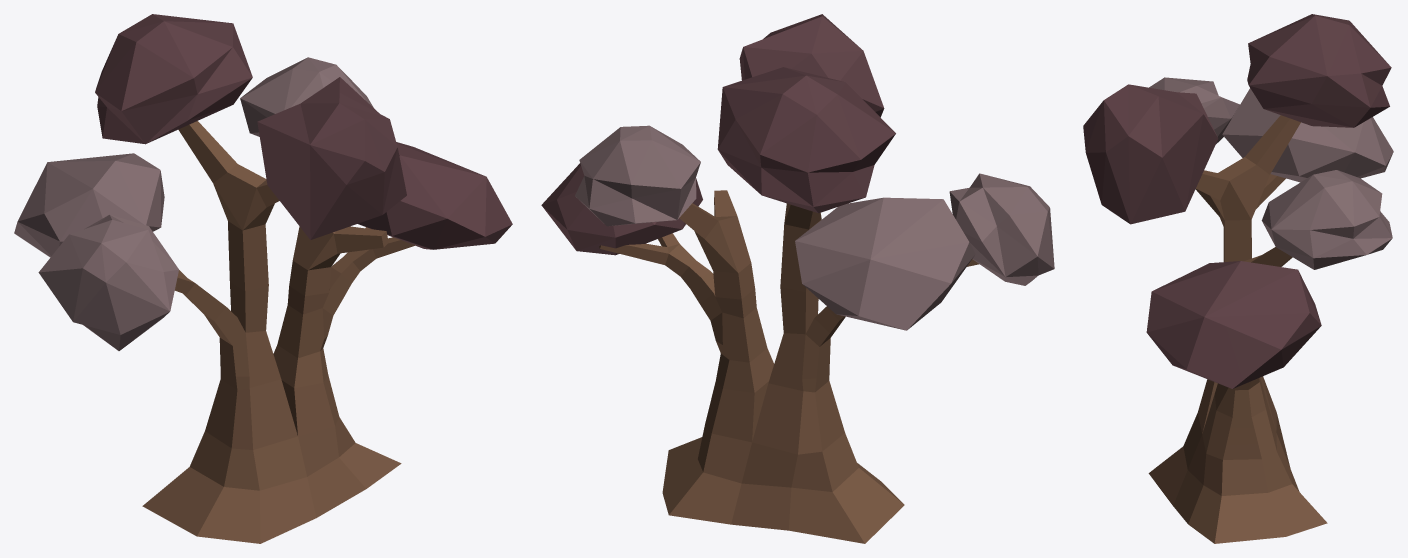
Rendered from sakura_tree.glb.
3 views of the same model, side by side, from view 1: azimuth 30°, elevation 25°; view 2: azimuth 150°, elevation 25°; view 3: azimuth 270°, elevation 25° (orthographic). The views are drawn at different scales.
Parts seen in each view (by area): view 1: M_Tree 1; view 2: M_Tree 1; view 3: M_Tree 1.
Boxes of the visible parts, x1,y1,x2,y2 form: M_Tree 1: [14, 14, 512, 543]; M_Tree 1: [541, 14, 1054, 543]; M_Tree 1: [1083, 14, 1393, 543].
Size of the model in its own units: 8.21 by 7.8 by 4.85.
Materials: 1 (1 with a texture image).
